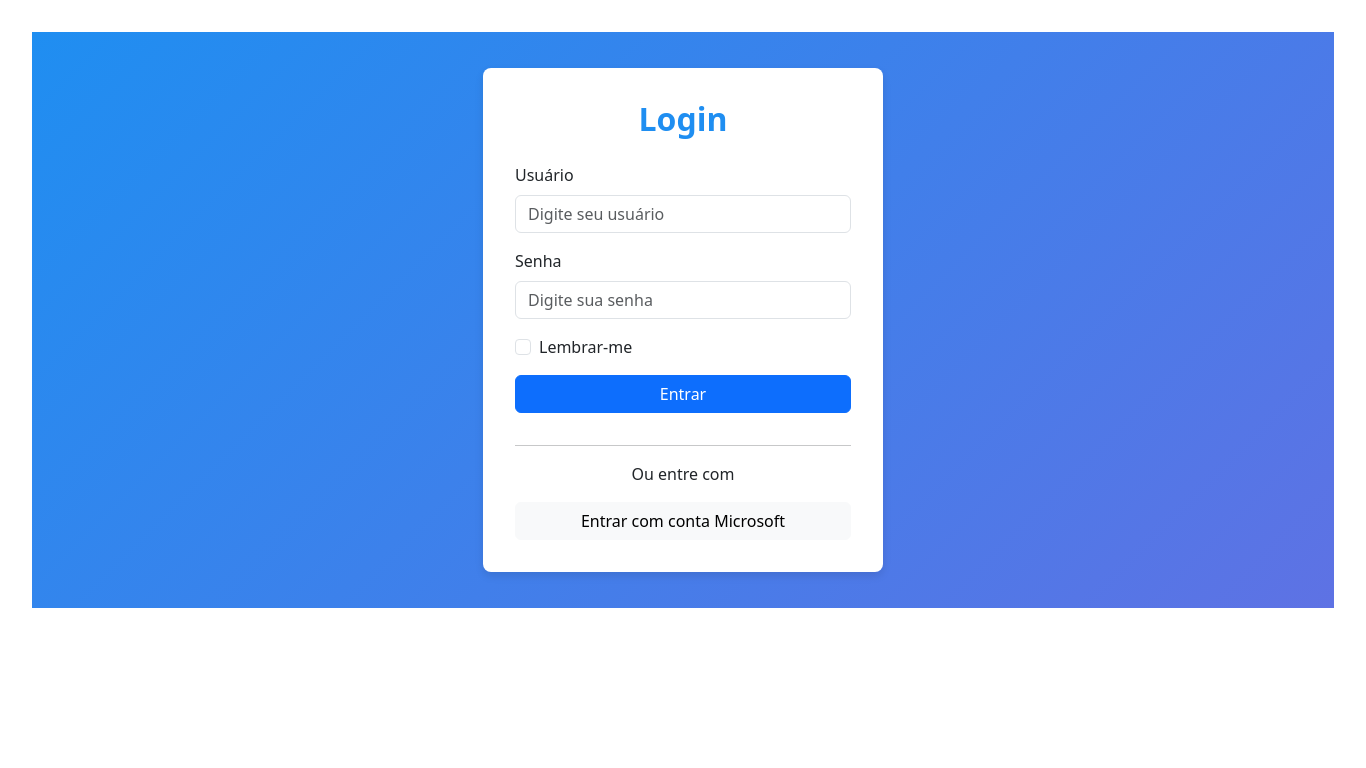
it: Login component › displays error message on login failure
Preenche os campos de login
Step 1. Type "testUser" into the field labelled "Usuário" → (683, 214), box left=515, top=195, right=851, bottom=233
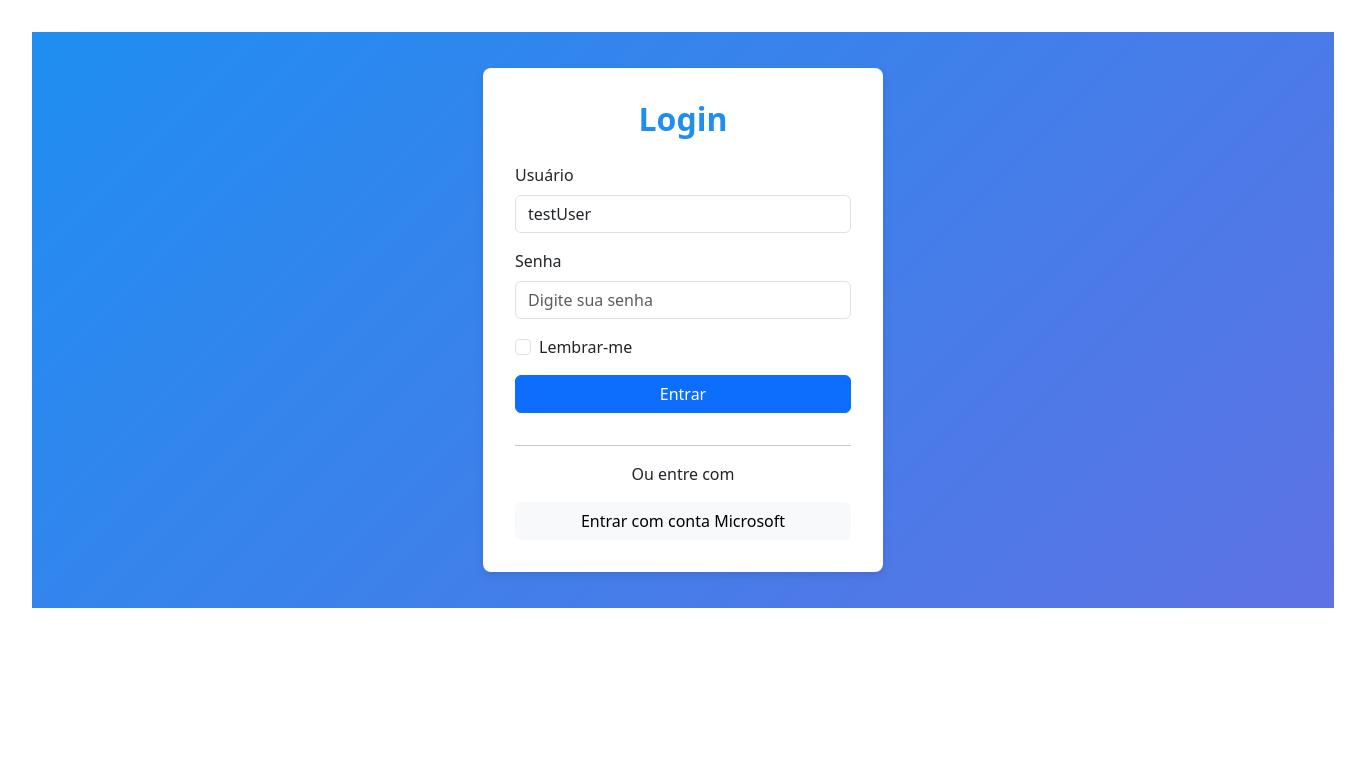
Step 2. Type "testPassword" into the password field labelled "Senha" → (683, 300), box left=515, top=281, right=851, bottom=319
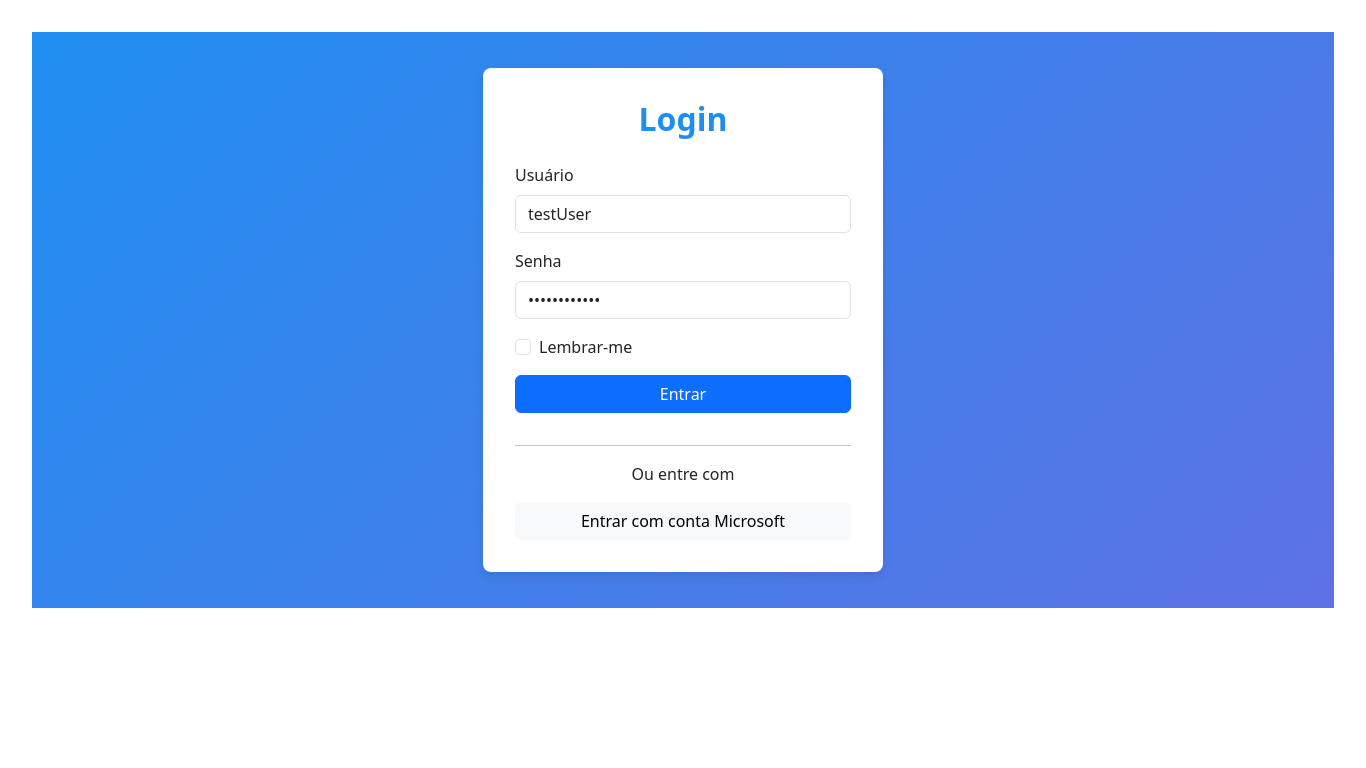
Submete o formulário de login
Step 3. Click the button "Entrar" → (683, 394), box left=515, top=375, right=851, bottom=413
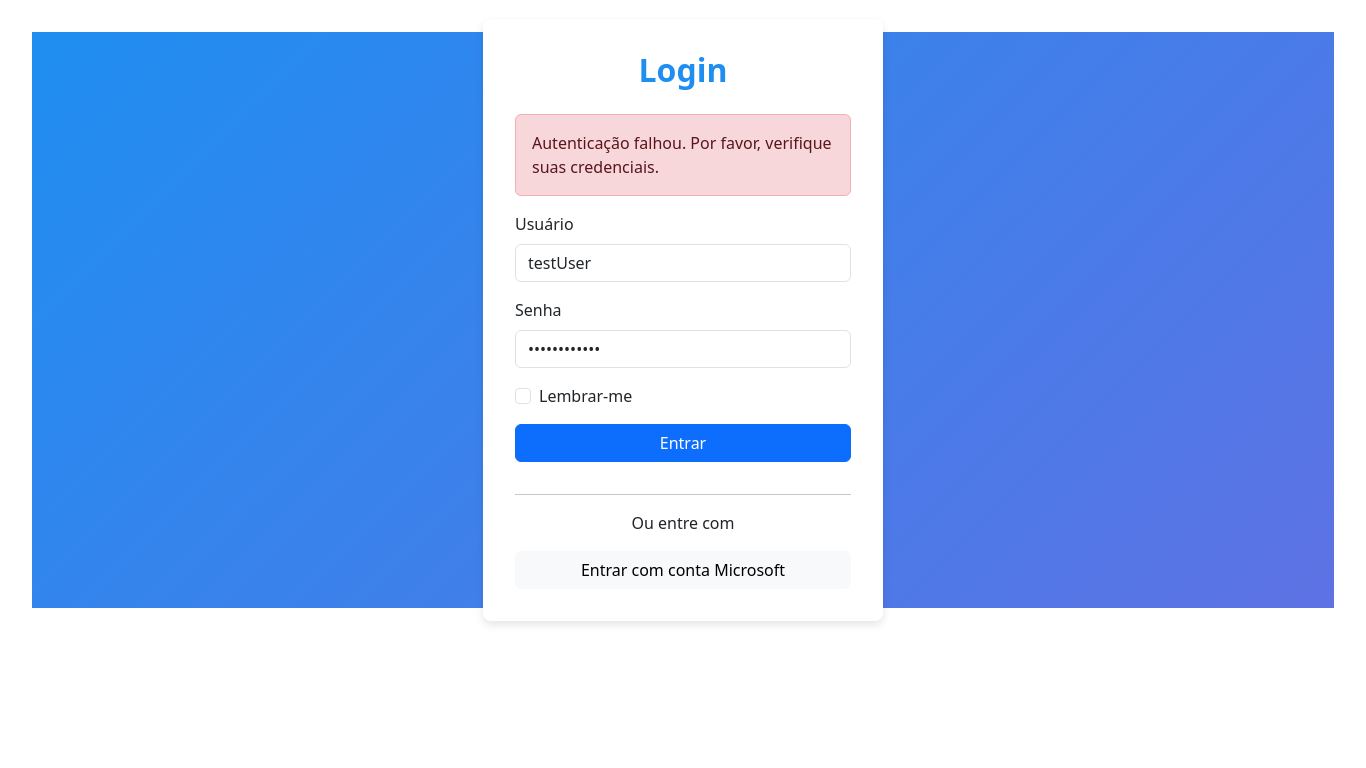
expect the text "Autenticação falhou. Por favor, verifique suas credenciais." is shown: met, box left=515, top=114, right=851, bottom=196
